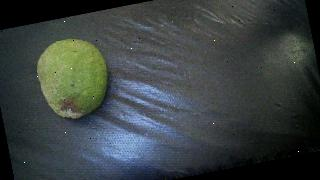DESECHO: (32, 32, 115, 123)
